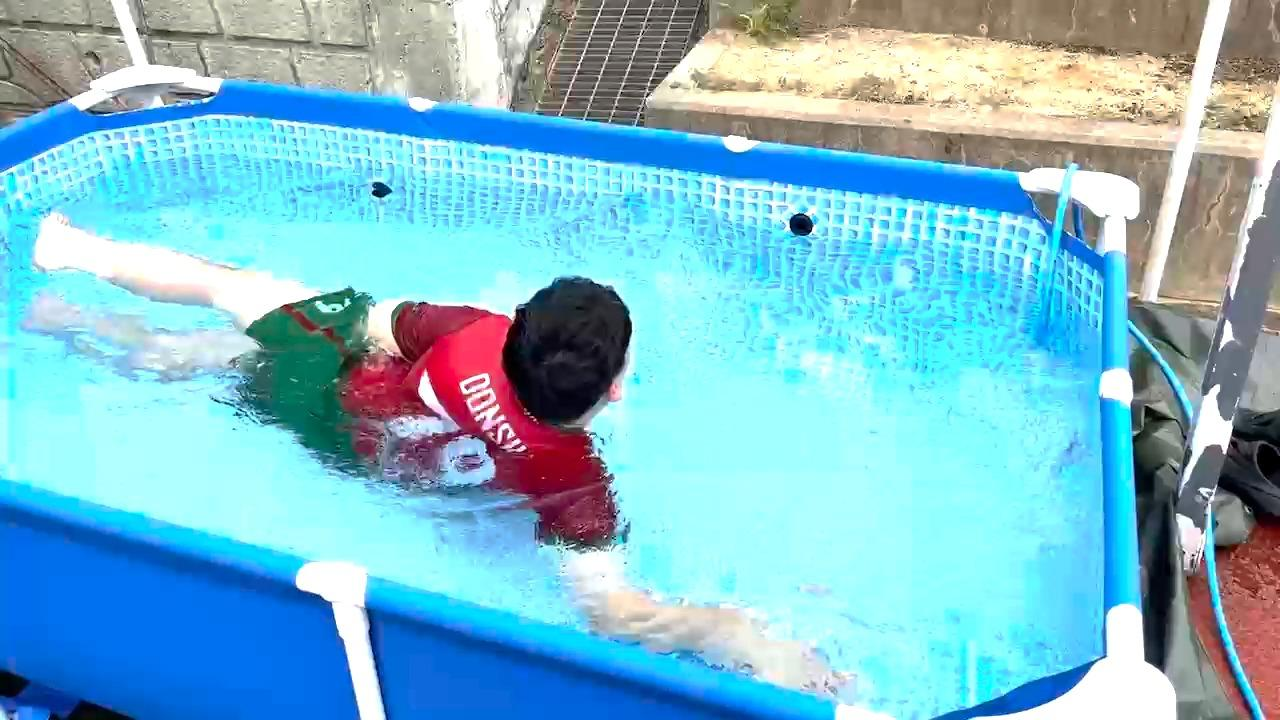Swimming: (9, 173, 883, 692)
